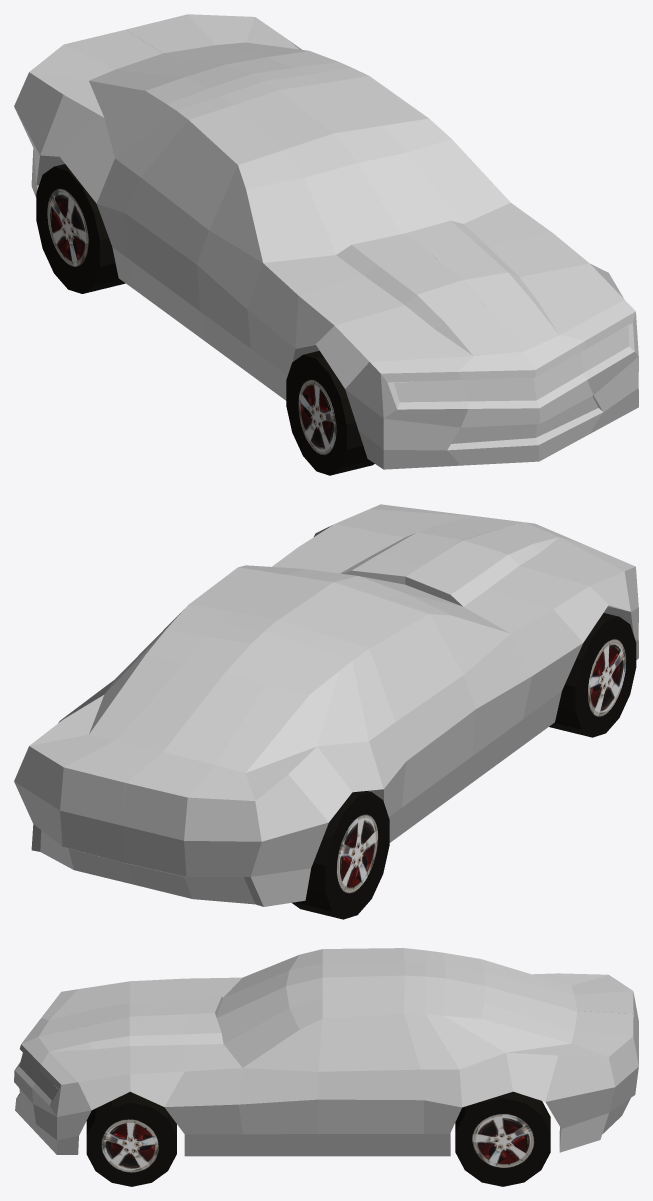
The model's file is ExportedBlenderFBXFile.fbx.
3 renders of one model, top to bottom at view 1: azimuth 30°, elevation 25°; view 2: azimuth 150°, elevation 25°; view 3: azimuth 270°, elevation 25°, orthographic. The views are drawn at different scales.
Visible parts, largest first — view 1: camaro_without_texture__parent_, rear_wheels, left_front_wheel; view 2: camaro_without_texture__parent_, rear_wheels, left_front_wheel; view 3: camaro_without_texture__parent_, rear_wheels, right_front_wheel.
Part boxes in pixels (x1=…): camaro_without_texture__parent_: x1=14, y1=14, x2=638, y2=469; rear_wheels: x1=36, y1=164, x2=125, y2=293; left_front_wheel: x1=286, y1=351, x2=374, y2=475; camaro_without_texture__parent_: x1=14, y1=504, x2=638, y2=906; rear_wheels: x1=292, y1=791, x2=389, y2=919; left_front_wheel: x1=549, y1=613, x2=636, y2=737; camaro_without_texture__parent_: x1=14, y1=948, x2=638, y2=1156; rear_wheels: x1=455, y1=1091, x2=550, y2=1186; right_front_wheel: x1=86, y1=1091, x2=176, y2=1186.
Size of the model in its own units: 3.83 by 2.65 by 9.46.
